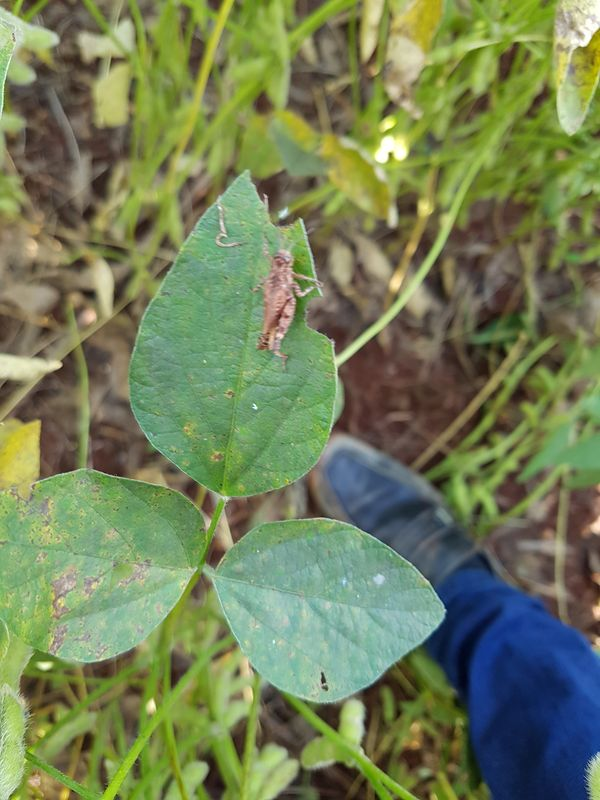Rhammatocerus_schistocercoides: (232, 222, 338, 370)
